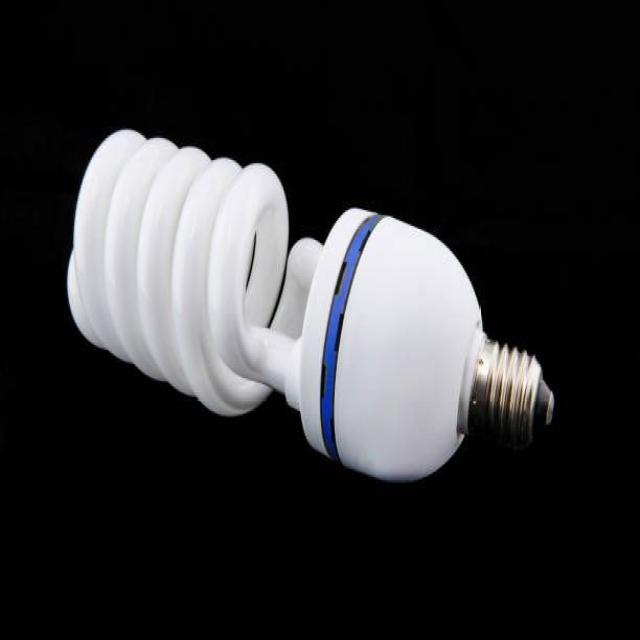electronic: (65, 126, 555, 484)
